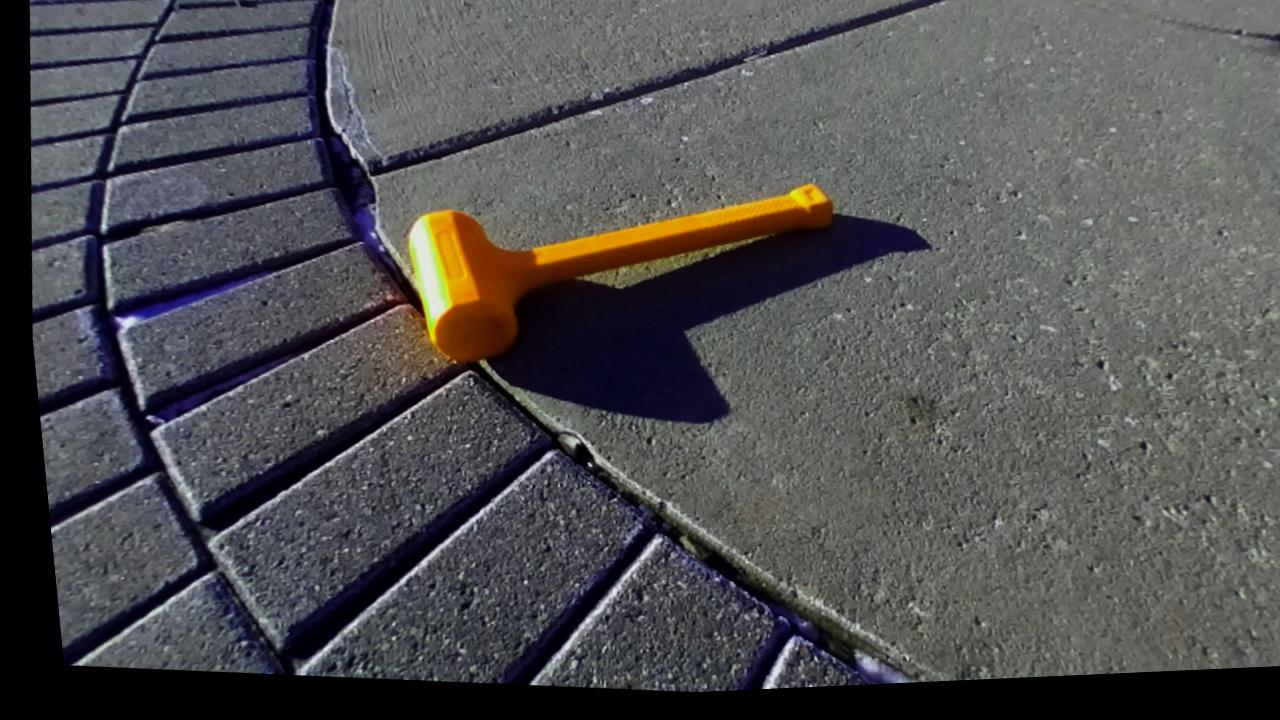mallet: (409, 185, 831, 361)
